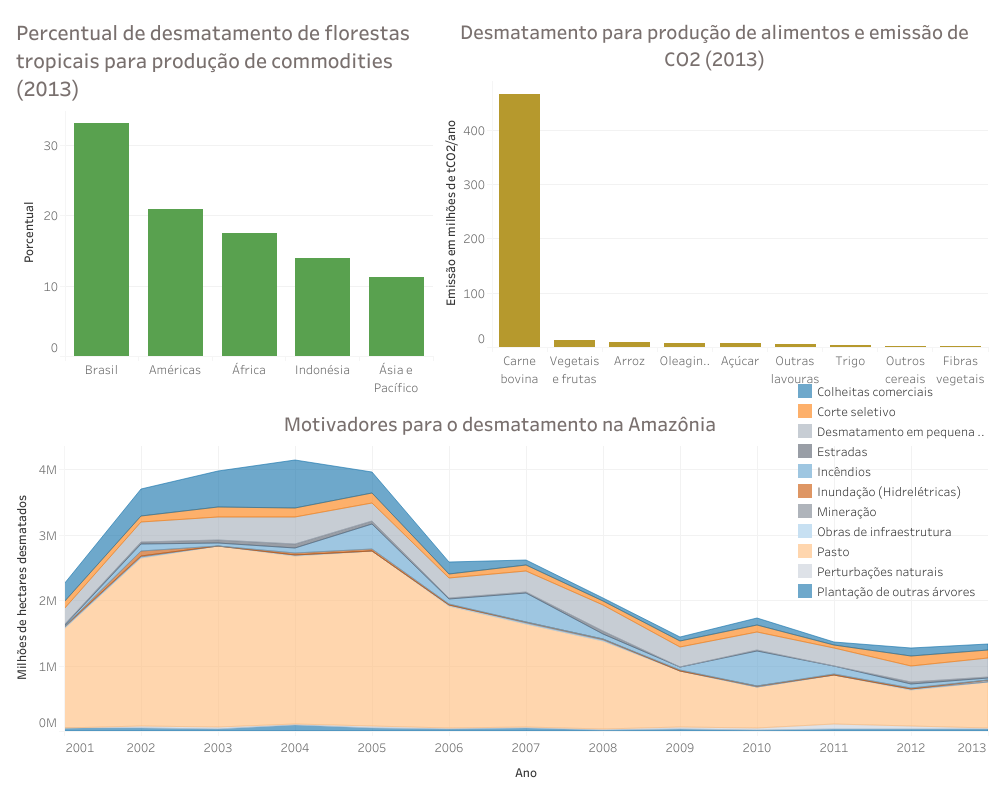

What the dashboard file says about the page in this screenshot:
{"tool":"tableau","page":{"name":"Desmatamento, CO2 e Produção de alimentos","canvas":[1000,800],"ordinal":0},"visuals":[{"type":"worksheet","title":"% desmatamento","mark":"Automatic","rows":["Porcentual de desmatamento de florestas tropicais para produ"],"cols":["Nações ou Continentes"],"box":[8,8,429,392]},{"type":"worksheet","title":"Produção de alimentos","mark":"Automatic","box":[437,8,555,392]},{"type":"legend","title":"Desmatamento","param":"[federated.13i2c5g00erdt716v9nj40e8b806].[:Measure Names]","box":[795,381,191,249]},{"type":"worksheet","title":"Desmatamento","mark":"Area","cols":["Ano"],"box":[8,400,984,392]}]}

Visuals, with their boxes in screenshot pixels (x1, y1, x2, y2), scaled from the page's 1000x800 canvas onto the 999x799 screenshot:
"% desmatamento" worksheet: <region>8, 8, 437, 400</region>
"Produção de alimentos" worksheet: <region>437, 8, 991, 400</region>
"Desmatamento" legend: <region>794, 381, 985, 629</region>
"Desmatamento" worksheet (Area marks): <region>8, 400, 991, 791</region>
